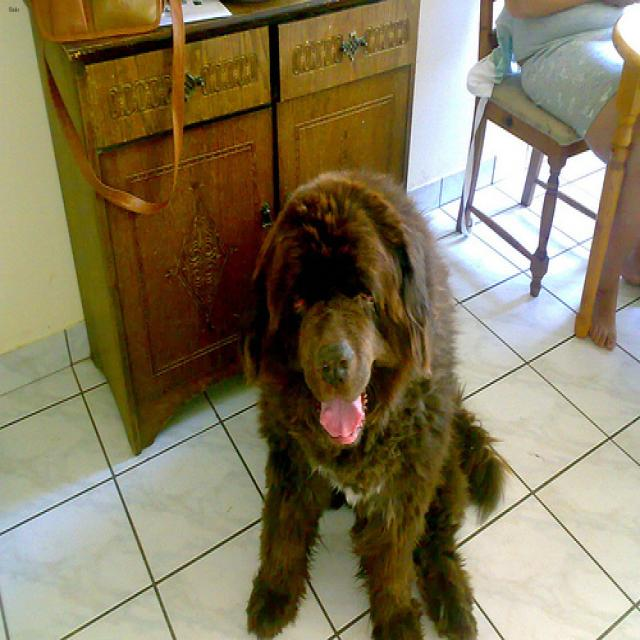dog-newfoundland: (234, 162, 516, 637)
